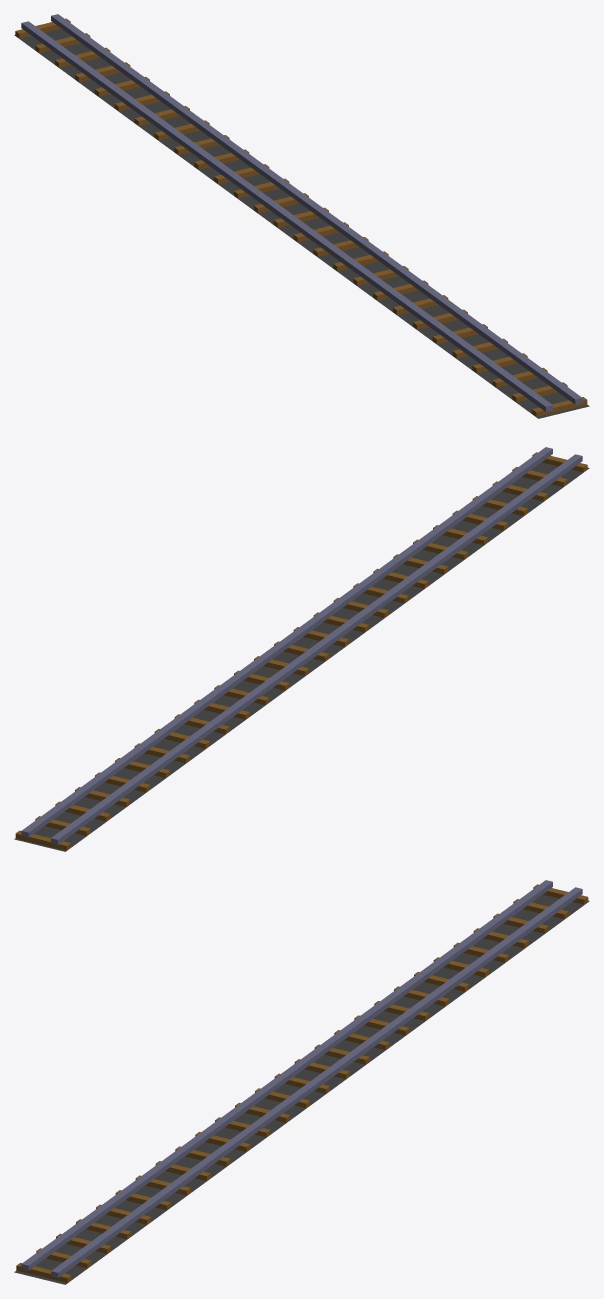
File: train_road.fbx
The picture shows the model from 3 angles, top to bottom: view 1: azimuth 30°, elevation 25°; view 2: azimuth 150°, elevation 25°; view 3: azimuth 330°, elevation 25°; orthographic projection.
Visible parts, largest first — view 1: Plane.008, Plane.009, Plane.011, Plane.010; view 2: Plane.008, Plane.009, Plane.011, Plane.010; view 3: Plane.008, Plane.009, Plane.010, Plane.011.
Boxes of the visible parts, bbox=[...] form: Plane.008: bbox=[14, 28, 589, 418]; Plane.009: bbox=[15, 18, 587, 416]; Plane.011: bbox=[21, 21, 552, 411]; Plane.010: bbox=[51, 14, 582, 404]; Plane.008: bbox=[14, 462, 589, 851]; Plane.009: bbox=[15, 452, 587, 850]; Plane.011: bbox=[51, 454, 582, 844]; Plane.010: bbox=[21, 447, 552, 837]; Plane.008: bbox=[14, 894, 589, 1284]; Plane.009: bbox=[16, 884, 588, 1282]; Plane.010: bbox=[51, 887, 582, 1277]; Plane.011: bbox=[21, 880, 552, 1270].
Bounding box in the file's own units: 400 × 75.92 × 7048.
